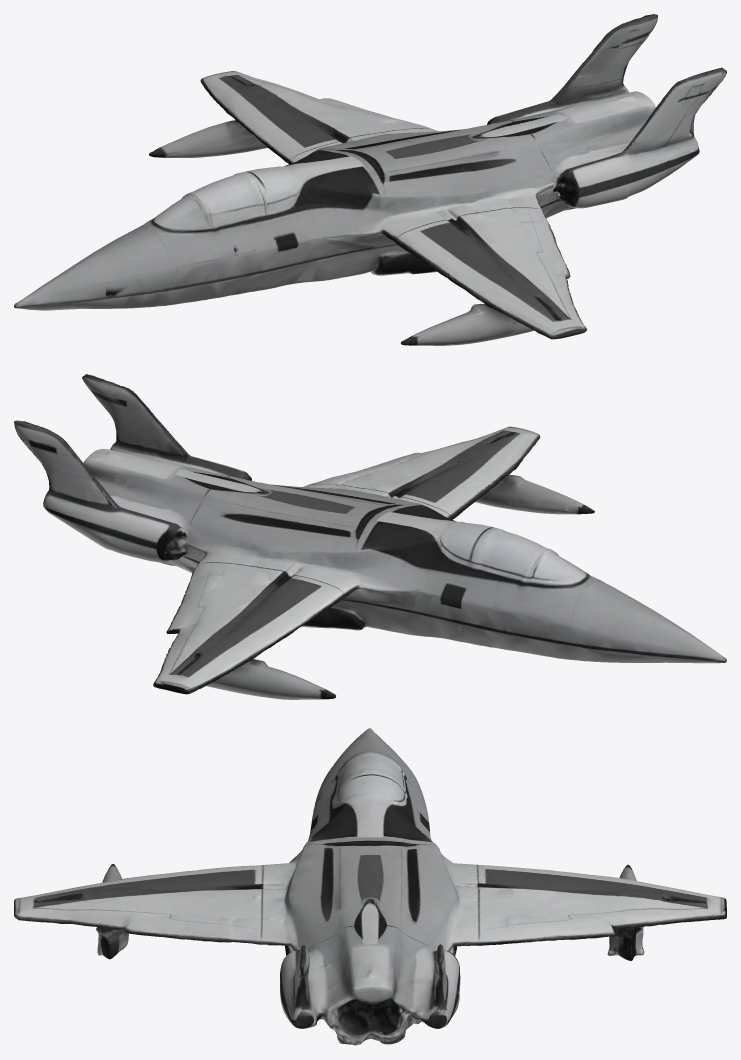
File: apex-craft.glb
3 views of the same model, one above another, from view 1: azimuth 30°, elevation 25°; view 2: azimuth 150°, elevation 25°; view 3: azimuth 270°, elevation 25° (orthographic).
Bounding box in the file's own units: 2 × 0.4292 × 1.8.
Materials: 1 (1 with a texture image).
